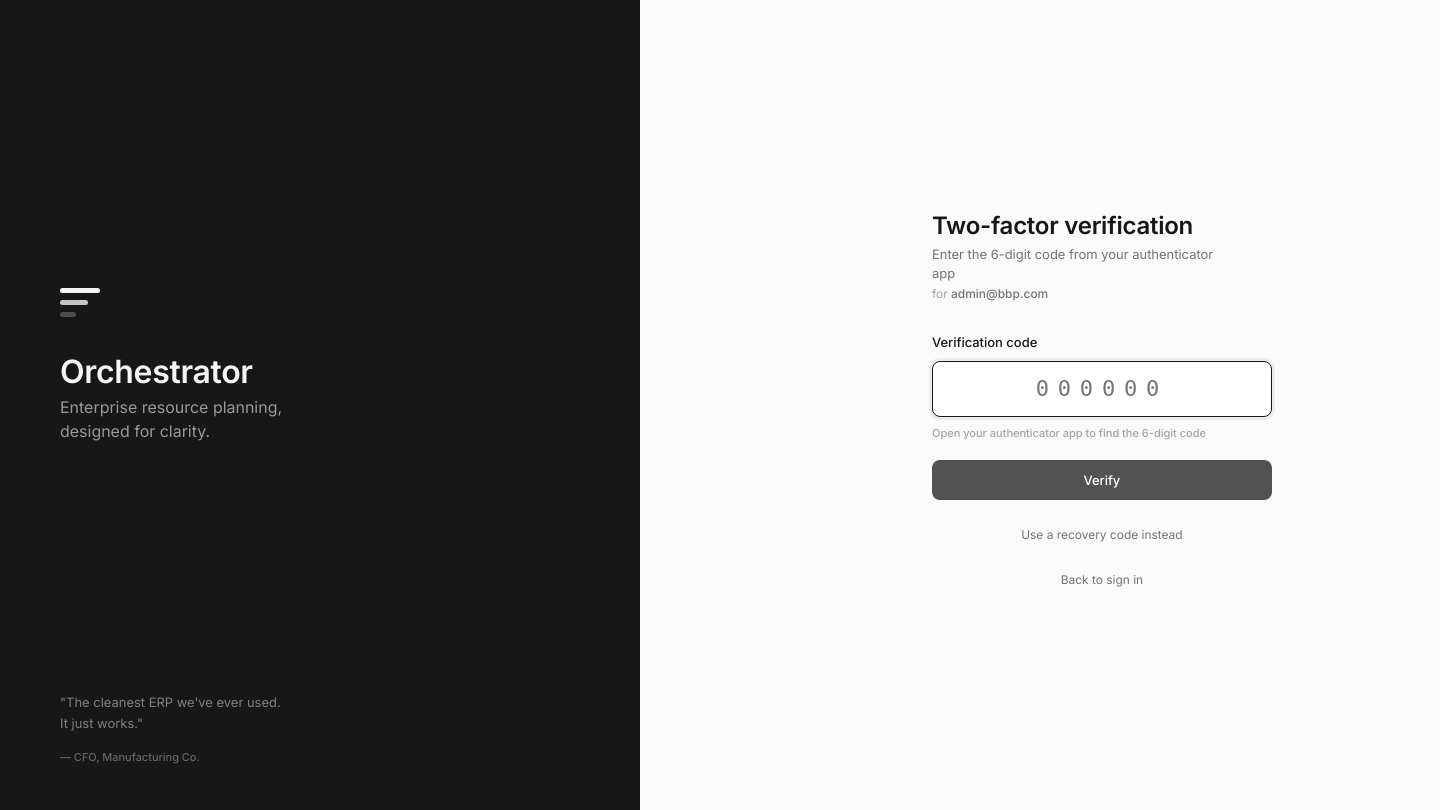
Test: MfaPage — recovery code path — VAL-AUTH-006 › can toggle back to authenticator code mode
Click the button "Use a recovery code instead".
click(1102, 535)  # box x1=932 y1=517 x2=1272 y2=553
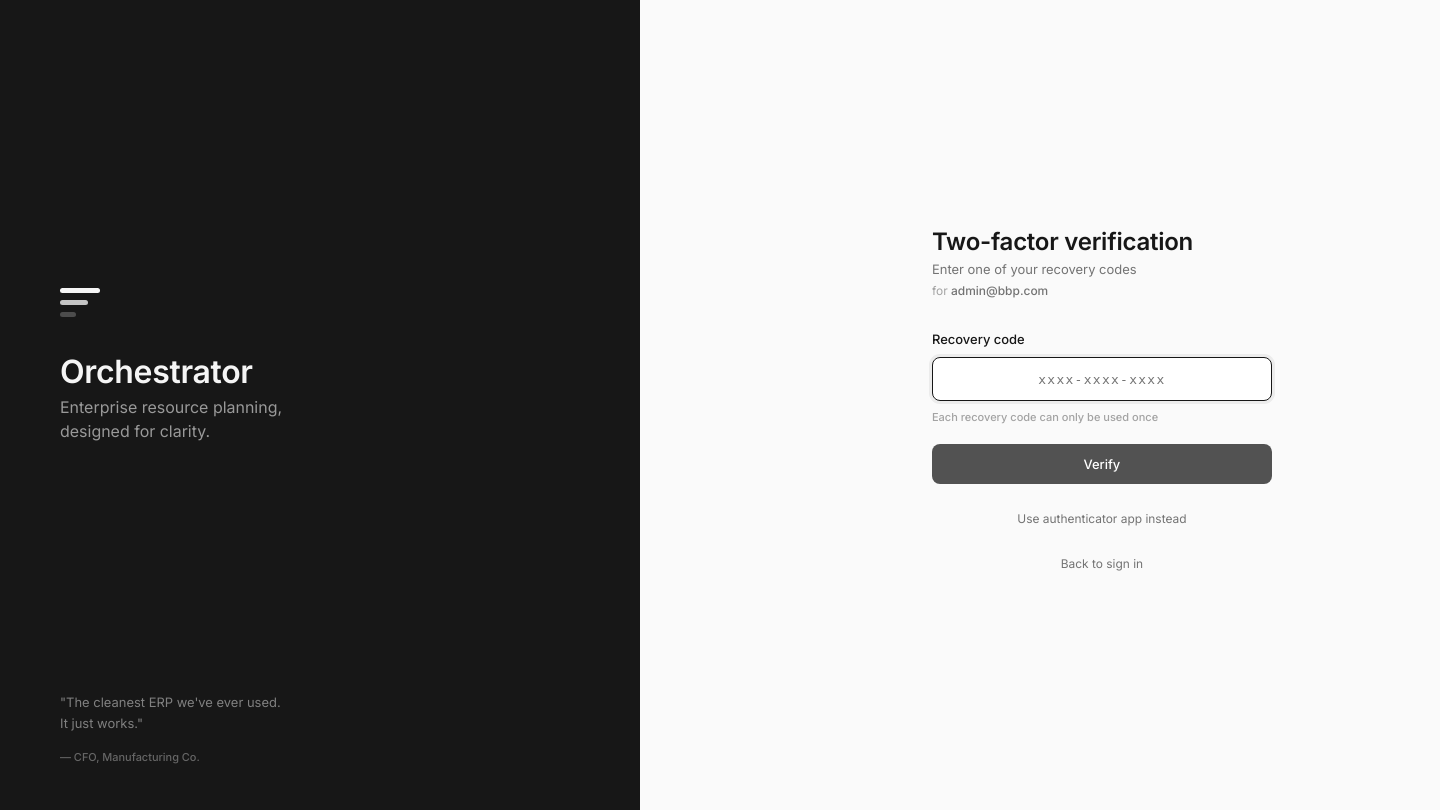
expect the field labelled "Recovery code" is shown: met, box x1=932 y1=357 x2=1272 y2=401
Click the button "Use authenticator app instead".
click(1102, 519)  # box x1=932 y1=501 x2=1272 y2=537
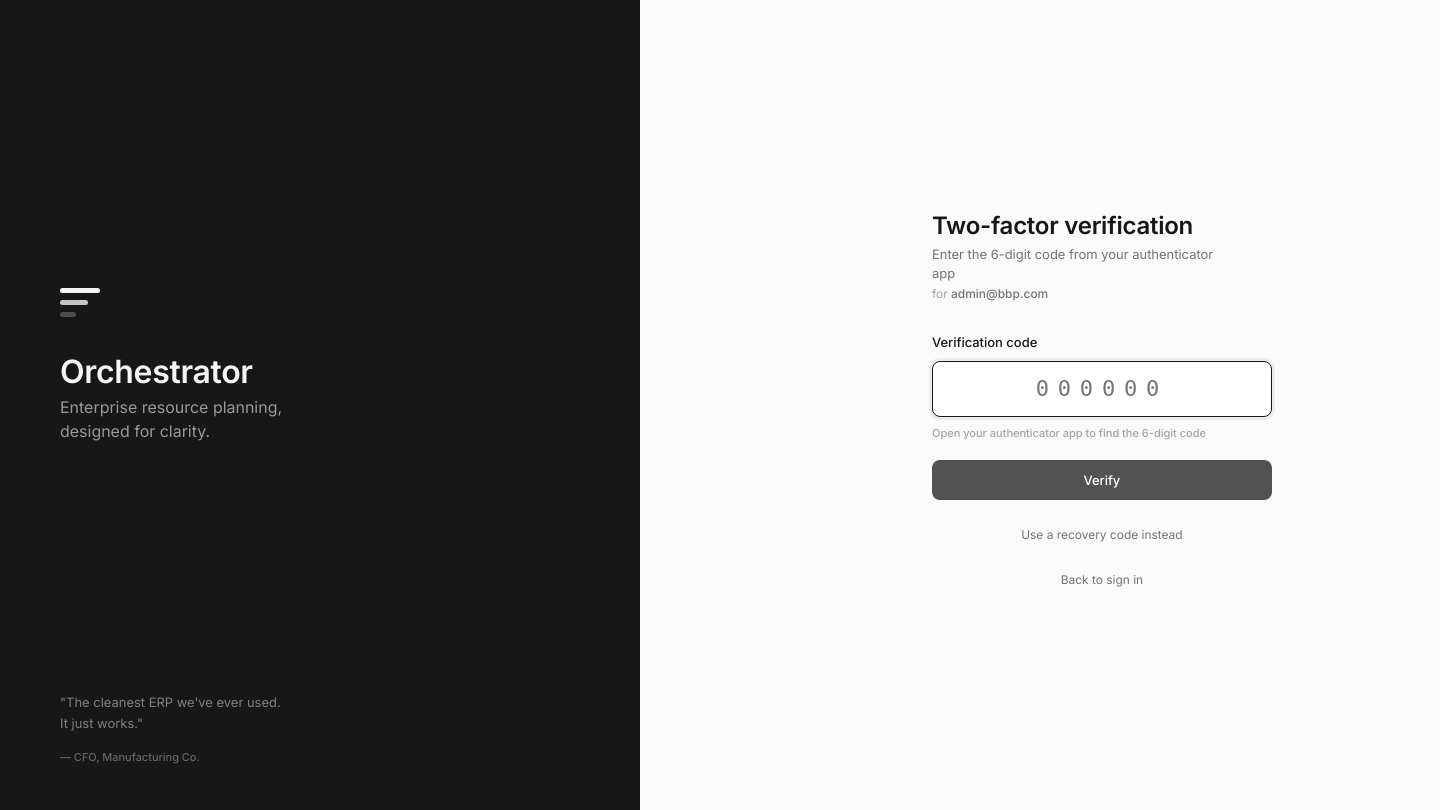
expect the field named "6-digit verification code" is shown: met, box x1=932 y1=361 x2=1272 y2=417
